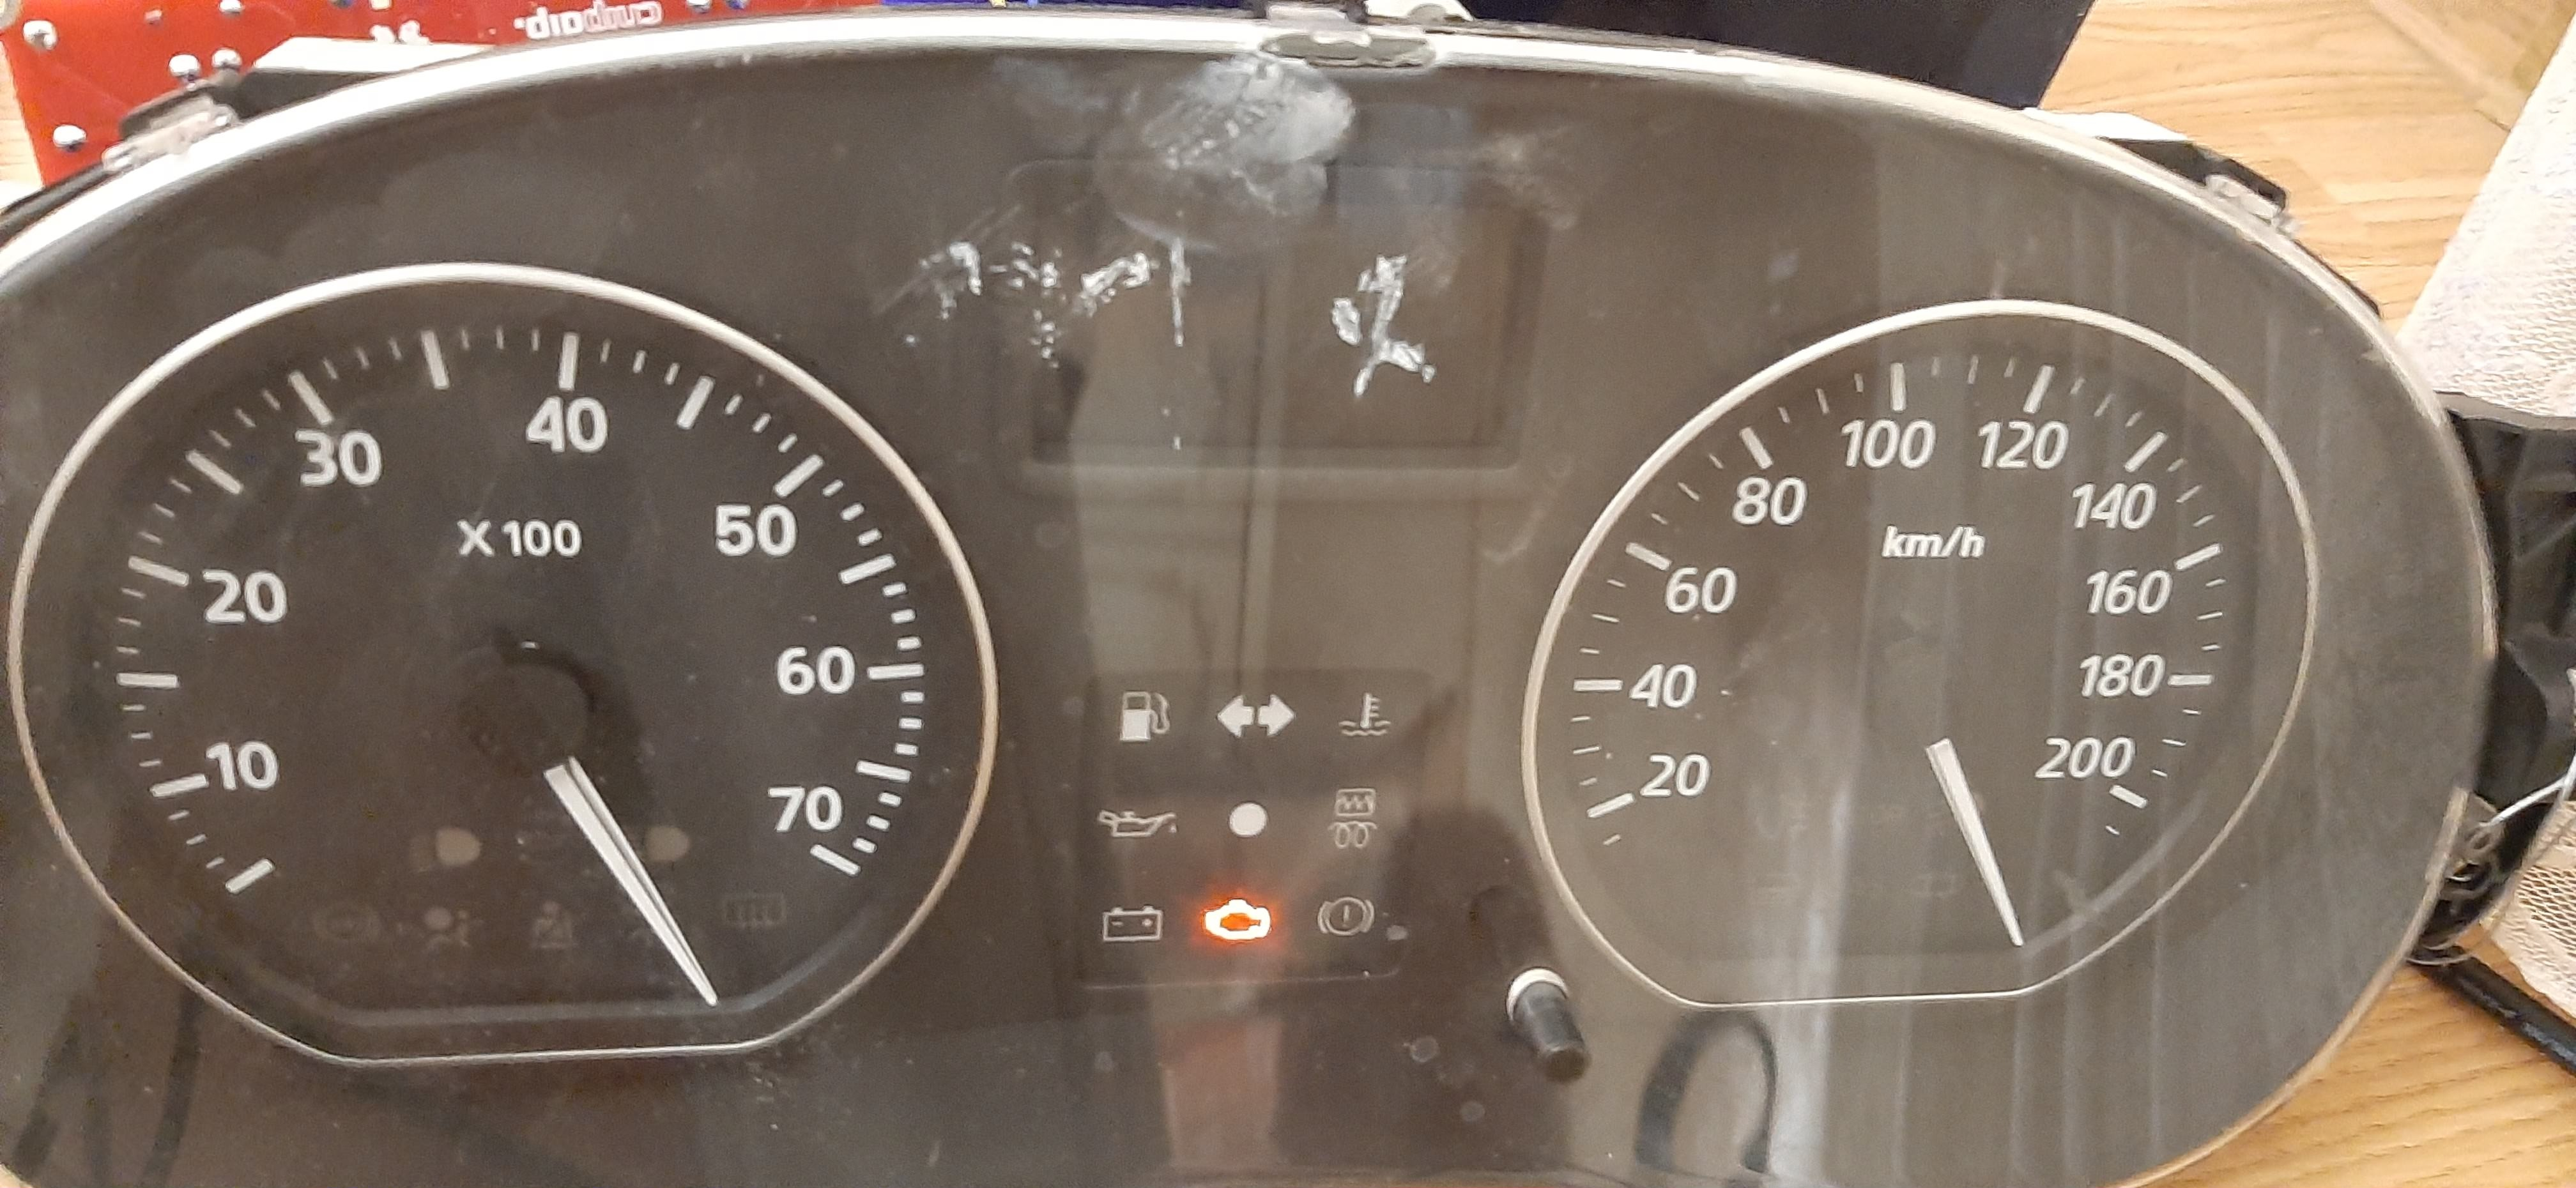engine10: (1201, 897, 1275, 945)
